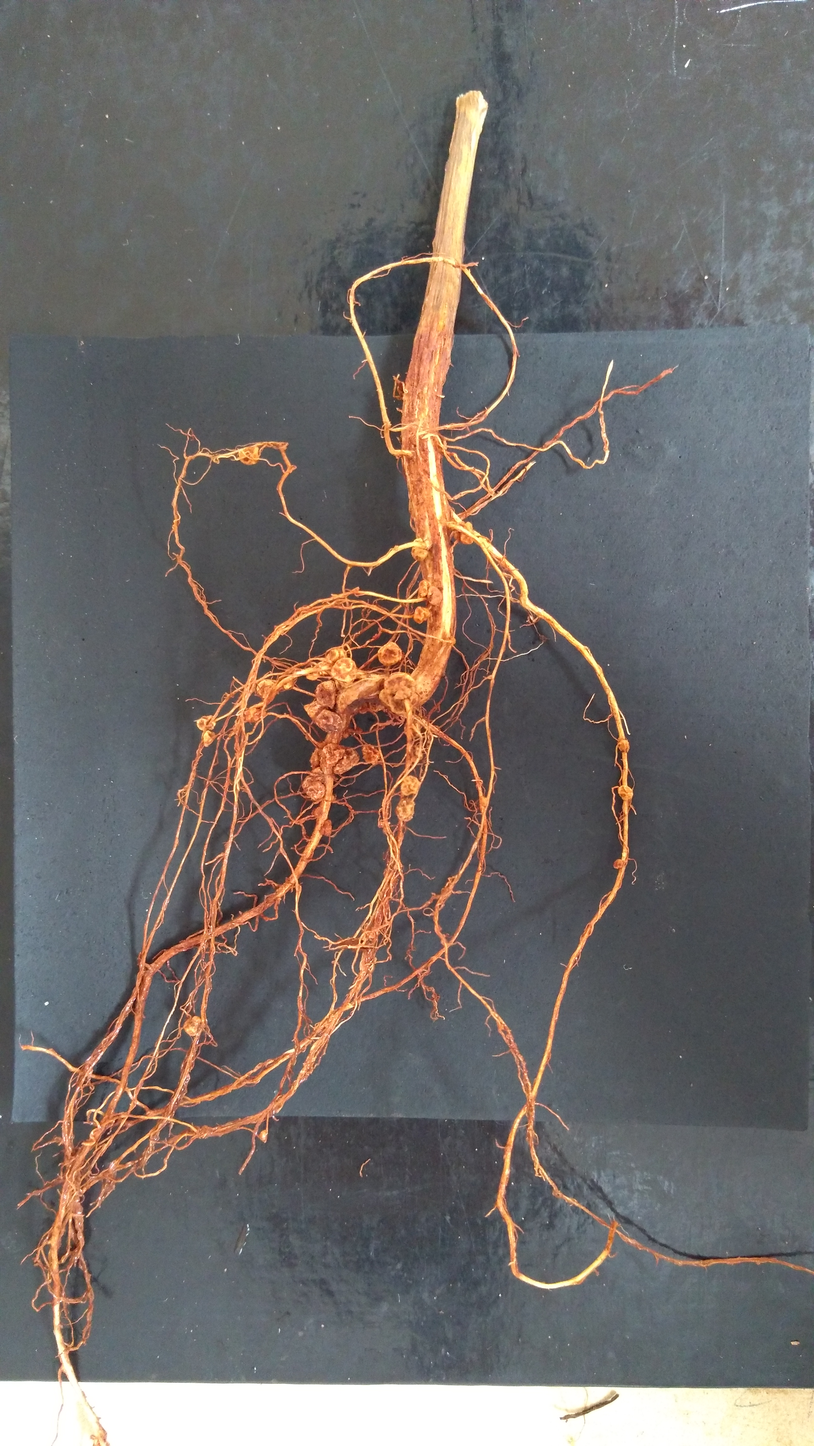nodule: (303, 700, 342, 733), (323, 742, 360, 775), (378, 687, 410, 719), (383, 671, 416, 700), (301, 766, 326, 801), (417, 579, 442, 606), (330, 657, 357, 682), (309, 747, 333, 775), (315, 680, 338, 709), (377, 641, 402, 666), (452, 520, 475, 546), (244, 701, 270, 724), (255, 678, 280, 699), (403, 715, 423, 738), (395, 798, 415, 821), (411, 537, 428, 562), (400, 775, 420, 796), (238, 446, 260, 465), (362, 743, 381, 765), (183, 1016, 202, 1036), (358, 700, 385, 714), (311, 660, 336, 675), (195, 714, 216, 731), (326, 648, 348, 664), (413, 606, 432, 624), (277, 671, 294, 691), (408, 743, 423, 763), (360, 927, 378, 942), (617, 785, 634, 800), (319, 819, 332, 836), (203, 730, 215, 747), (617, 739, 630, 754), (438, 437, 448, 453), (613, 858, 625, 869), (306, 671, 319, 681), (479, 795, 489, 807), (259, 1129, 268, 1142), (311, 807, 322, 817), (342, 731, 350, 739)
